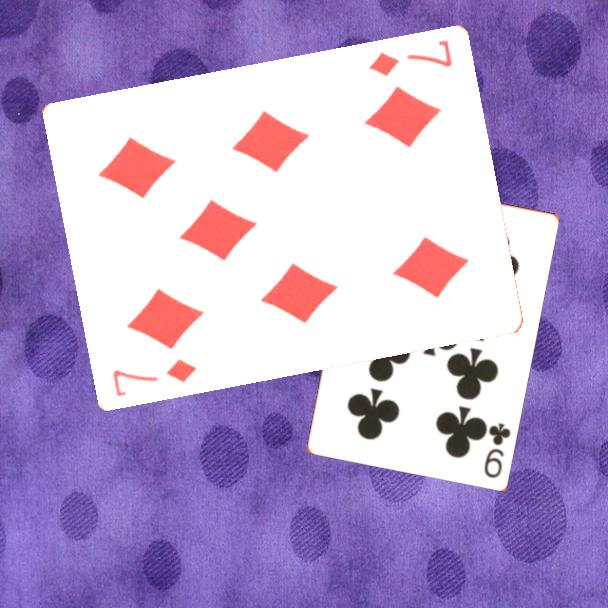c09: (480, 419, 513, 481)
d07: (108, 355, 199, 400), (365, 37, 455, 80)
